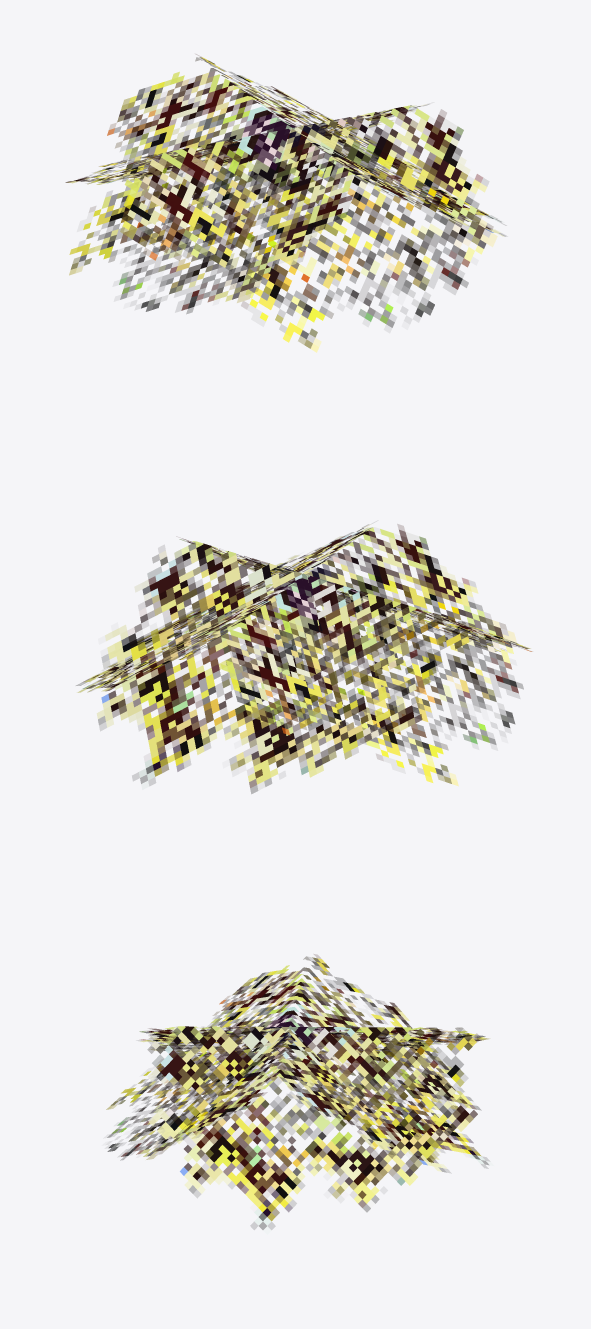
Rendered from Environment - Vegetation - Boulders - PTBush08.glb.
3 renders of one model, top to bottom at view 1: azimuth 30°, elevation 25°; view 2: azimuth 150°, elevation 25°; view 3: azimuth 270°, elevation 25°, orthographic. The views are drawn at different scales.
Parts seen in each view (by area): view 1: PTBUSH08; view 2: PTBUSH08; view 3: PTBUSH08.
Boxes of the visible parts, box(x1,y1,x2,y2) form: PTBUSH08: box(65, 54, 505, 352); PTBUSH08: box(76, 524, 532, 793); PTBUSH08: box(106, 954, 493, 1234).
Bounding box in the file's own units: 16.73 × 5.48 × 16.84.
Materials: 1 (1 with a texture image).
